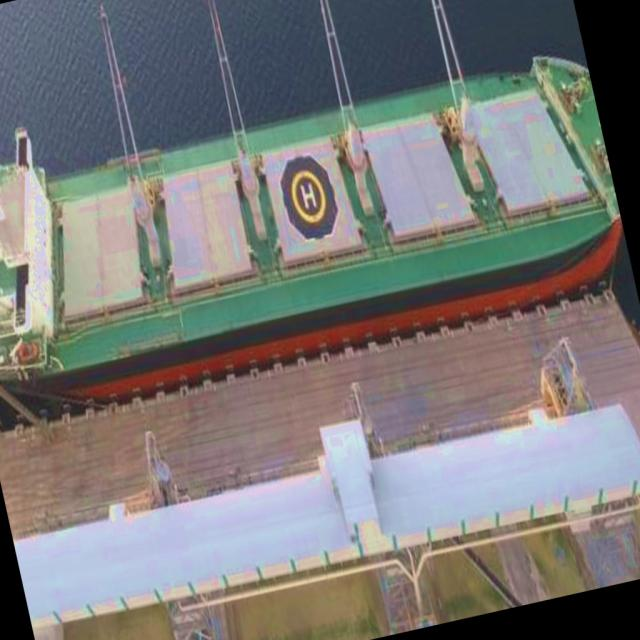helipad: (288, 168, 326, 223)
